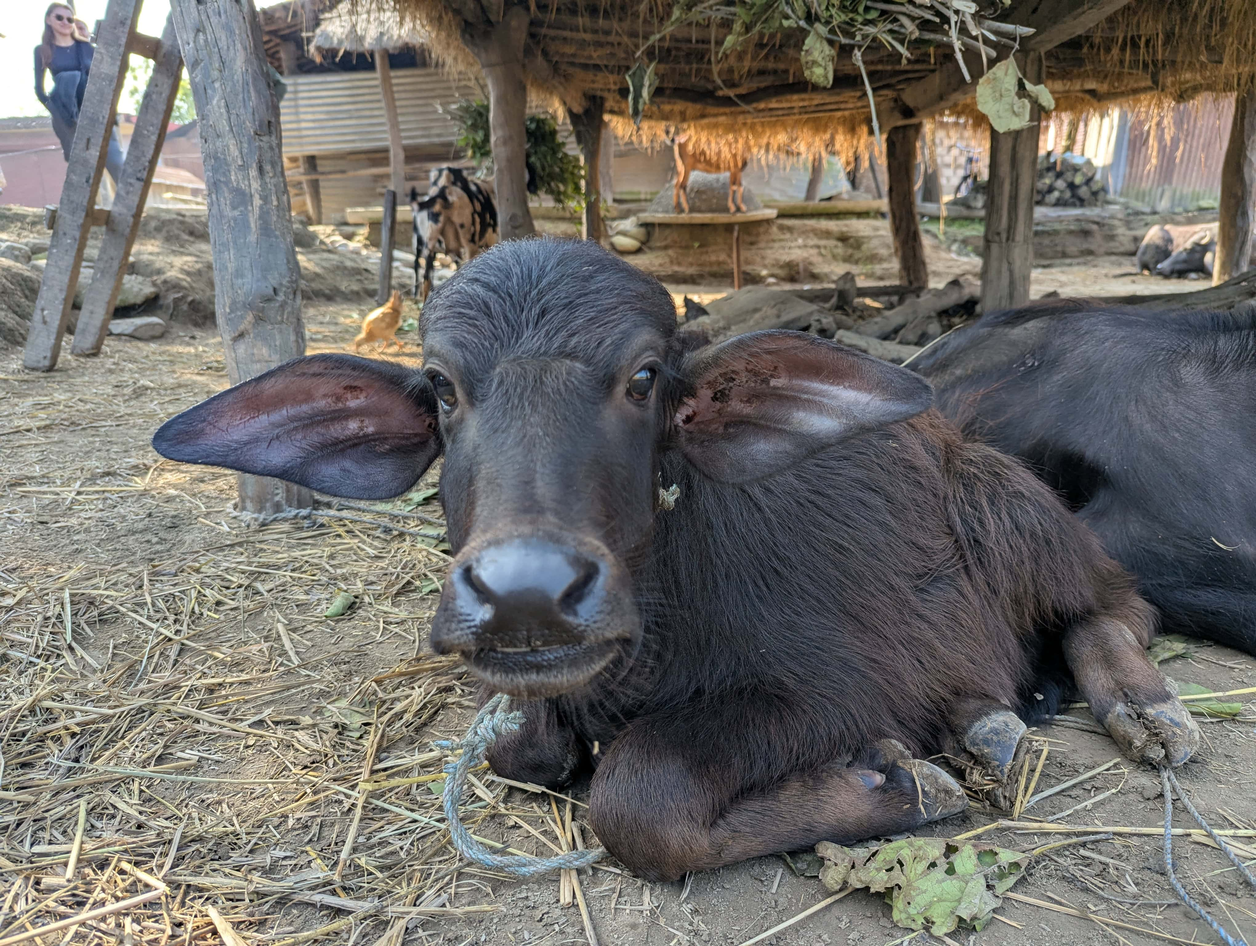bovino: (149, 235, 1208, 877)
